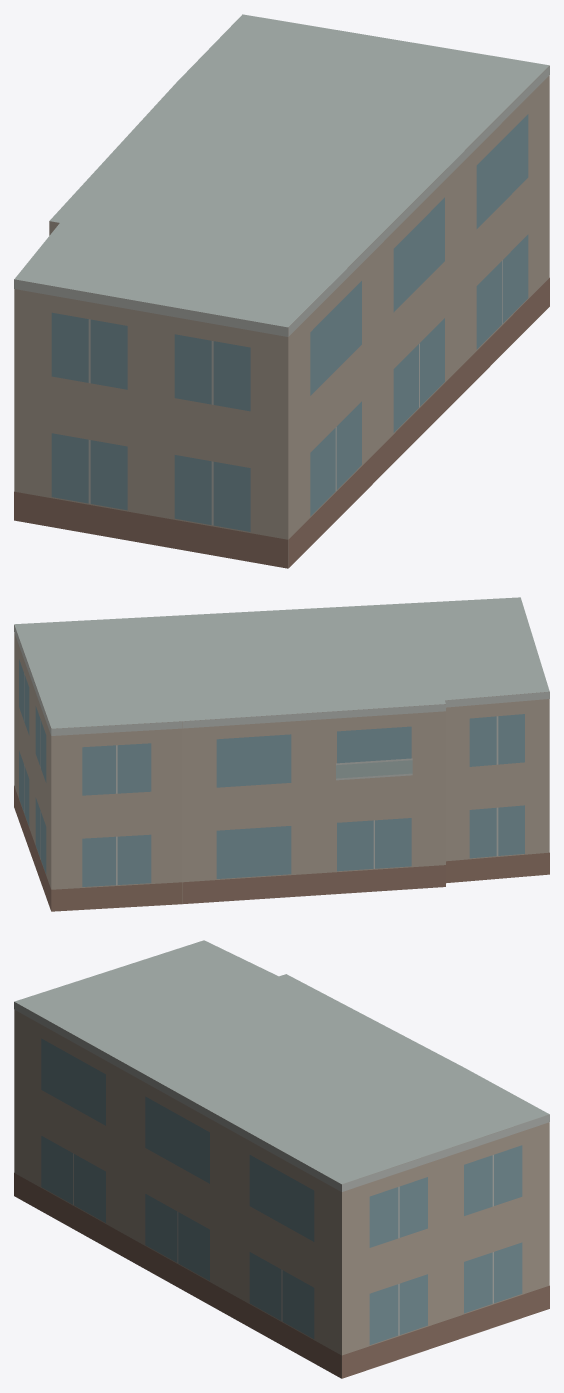
File: survey-upis-32774245.glb
3 renders of one model, top to bottom at view 1: azimuth 30°, elevation 25°; view 2: azimuth 150°, elevation 25°; view 3: azimuth 270°, elevation 25°, orthographic. The views are drawn at different scales.
Visible parts, largest first — view 1: survey-upis-32774245.tmp; view 2: survey-upis-32774245.tmp; view 3: survey-upis-32774245.tmp.
Boxes of the visible parts, box(x1,y1,x2,y2) form: survey-upis-32774245.tmp: box(14, 14, 549, 568); survey-upis-32774245.tmp: box(14, 597, 549, 911); survey-upis-32774245.tmp: box(14, 940, 549, 1378).
Bounding box in the file's own units: 16.45 × 6.1 × 15.25.
